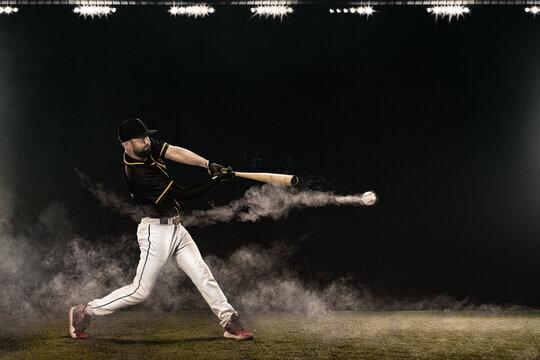baseball: (362, 192, 377, 207)
